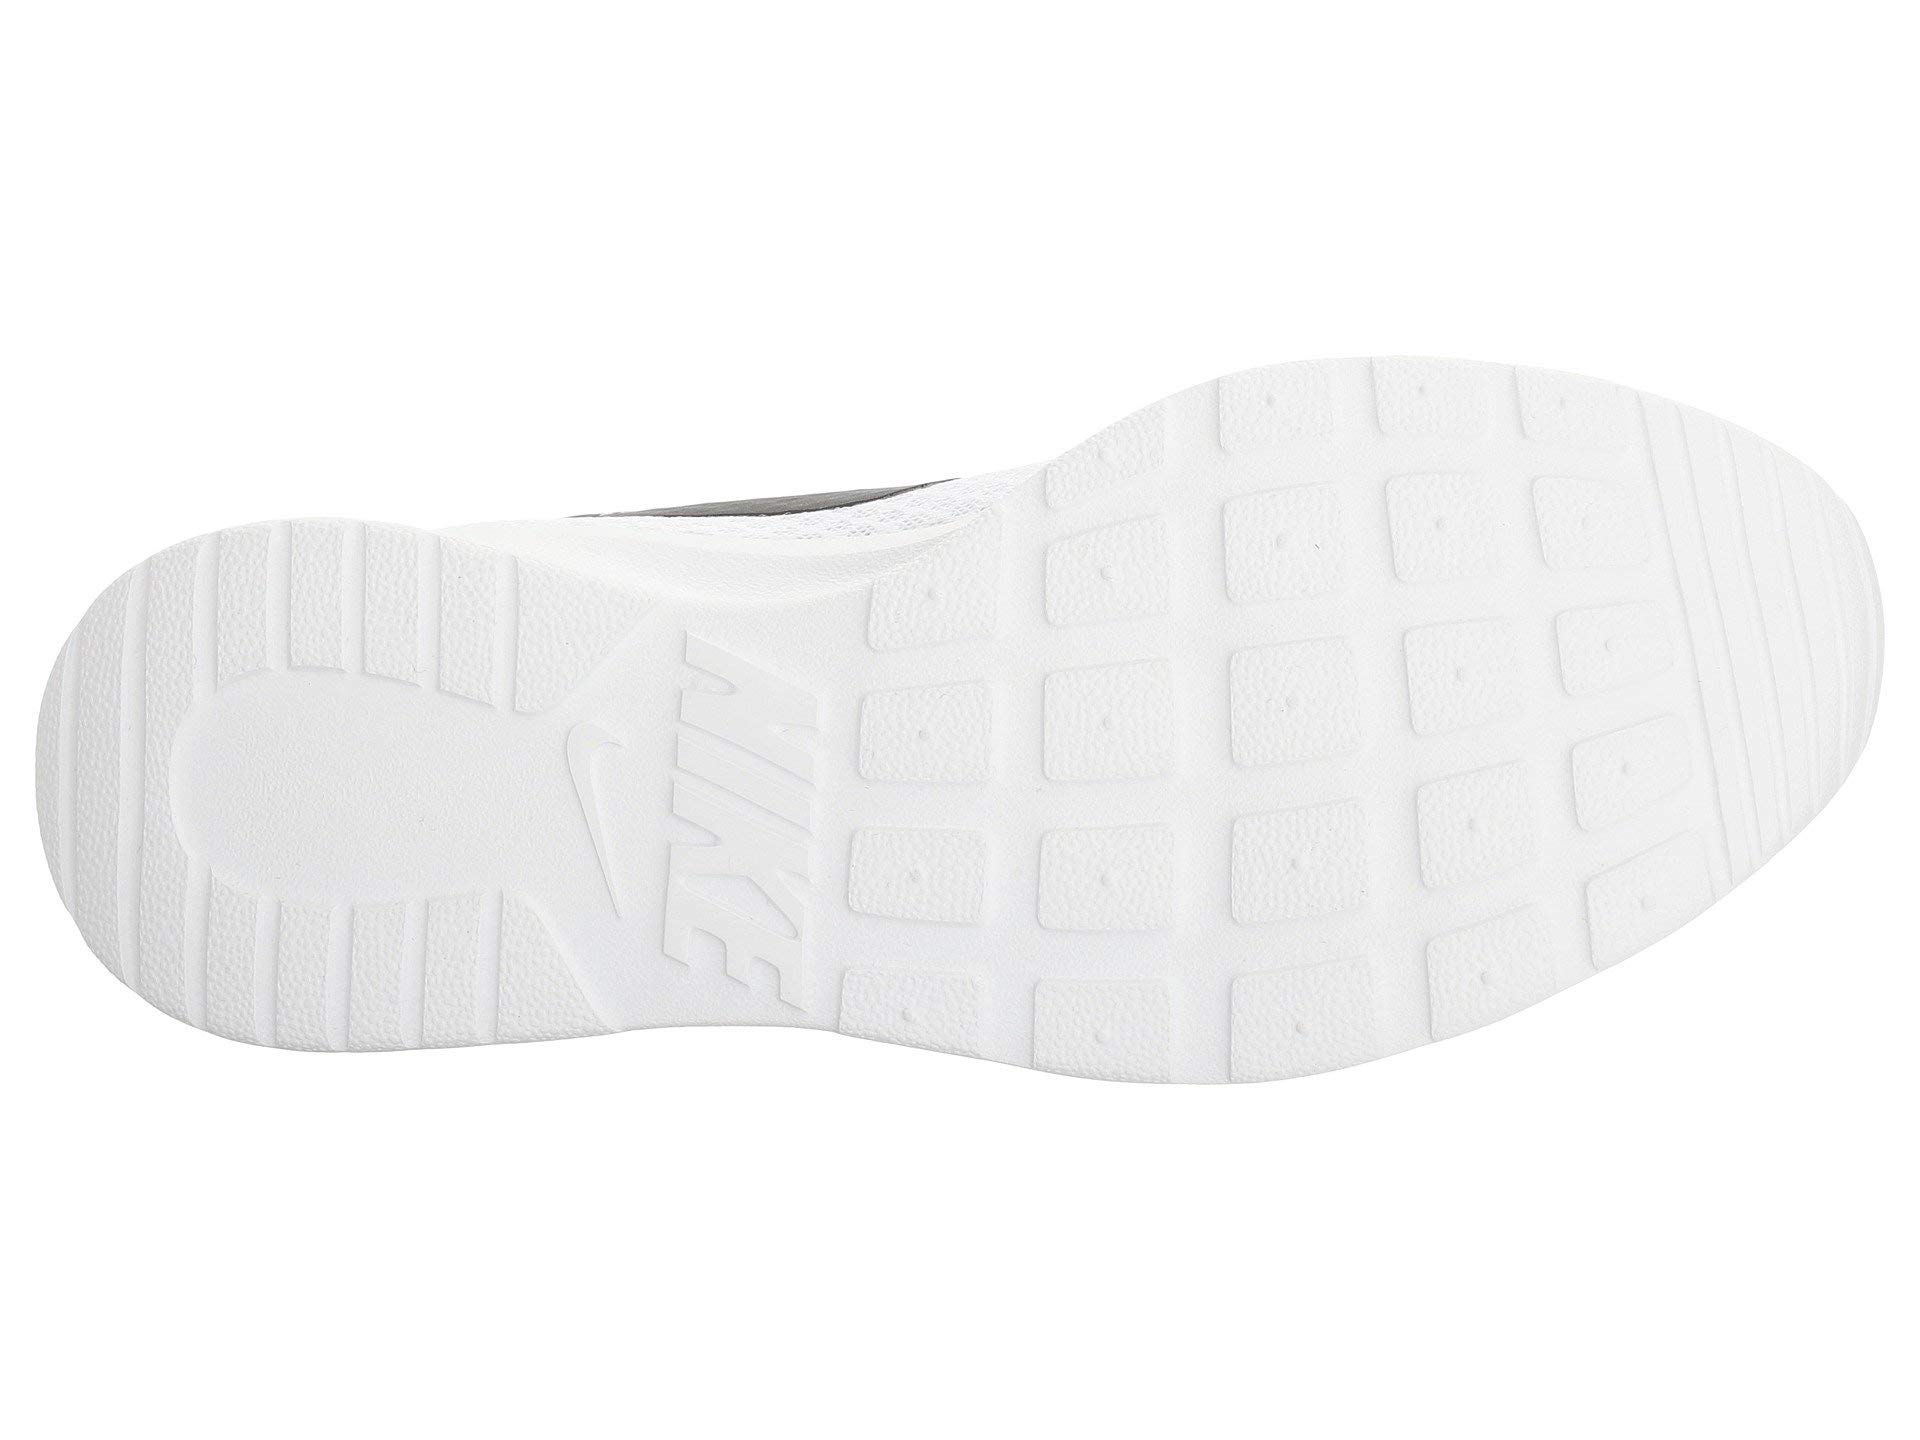circle: (1113, 425, 1571, 965)
line: (532, 591, 845, 1016), (1655, 425, 1860, 777)
quad: (1113, 425, 1571, 965), (213, 517, 441, 697)
text: (532, 591, 845, 1016)
